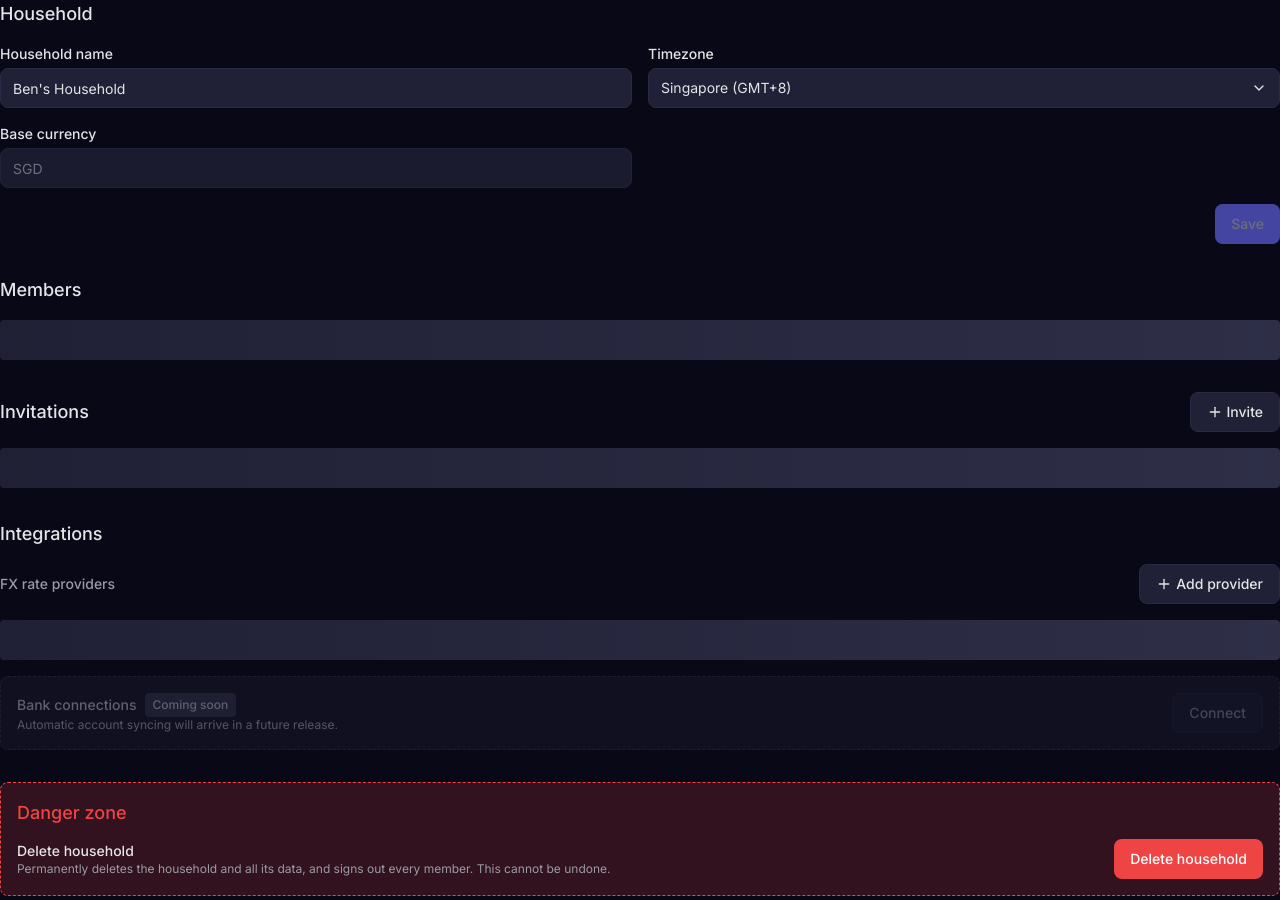
Test: ManagementTab — Integrations (FX providers) › Add is enabled with an empty form; submitting blocks with the §6 error summary (no POST)
This screenshot has width=1280, height=900.
What coordinates should you click on to do the following:
click the button "Add provider"
I would click on:
 (1210, 584)
Its box is top-left (1139, 564), bottom-right (1279, 604).
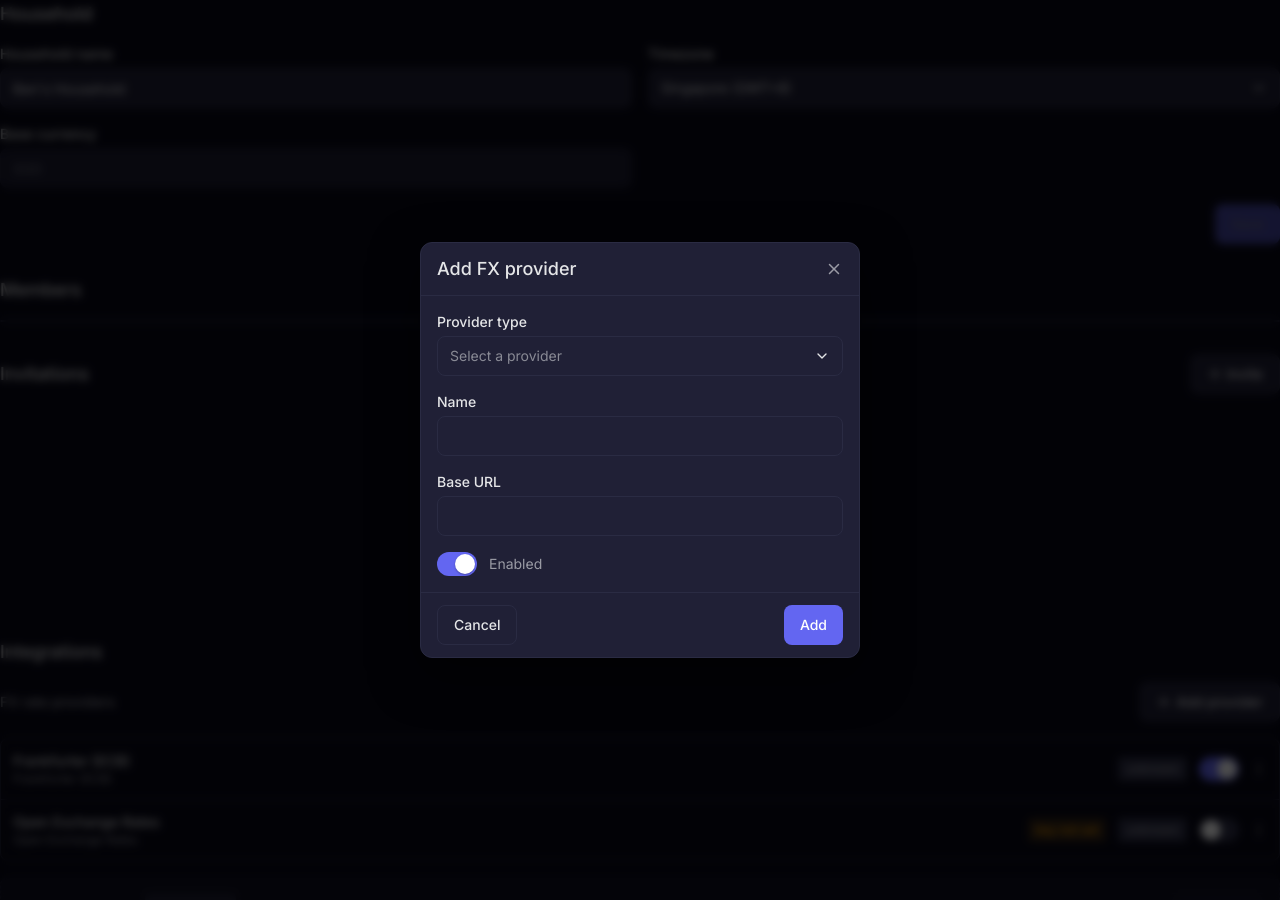
Result: the button "Add" is enabled
What coordinates should you click on to do the following:
click the button "Add"
I would click on:
 (813, 625)
Its box is top-left (784, 605), bottom-right (843, 645).
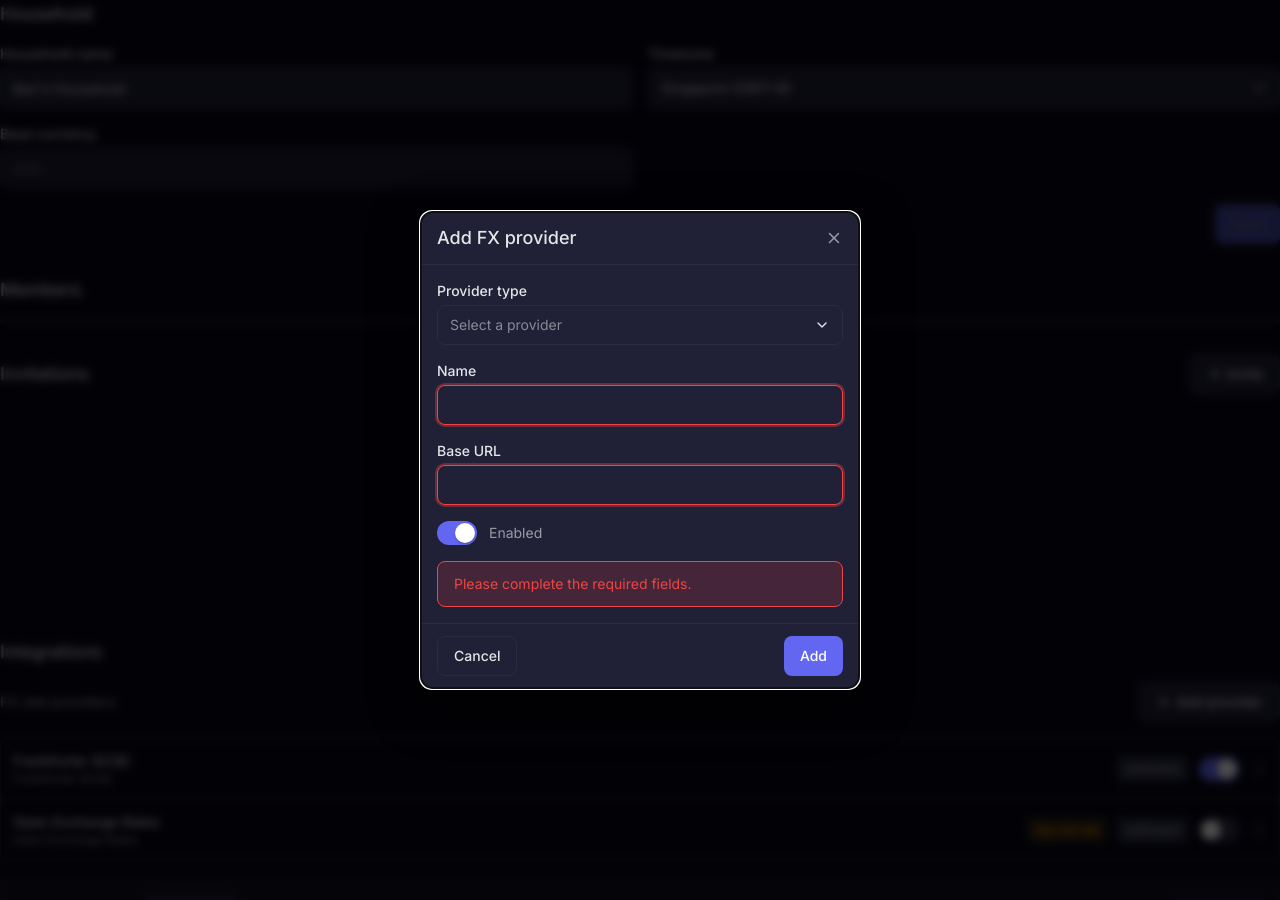
Result: the text "Please complete the required fields." is shown at top-left (437, 561), bottom-right (843, 607)
